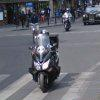Motorcycle: (20, 24, 71, 100)
